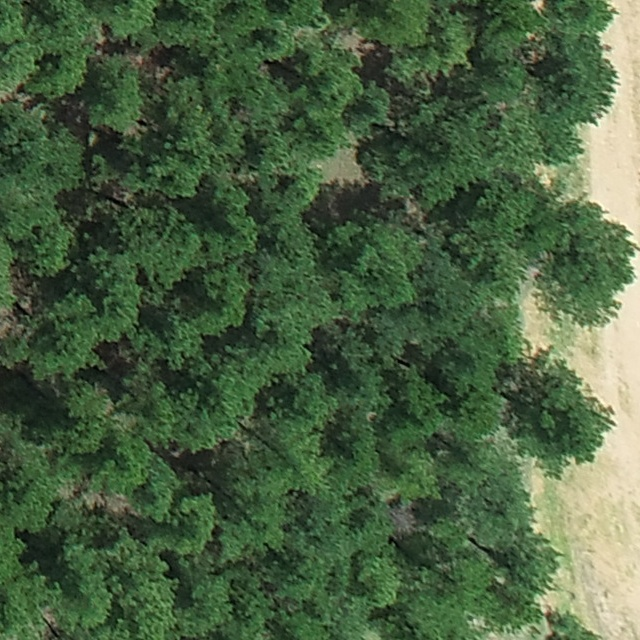unhealthy: (387, 502, 421, 537)
